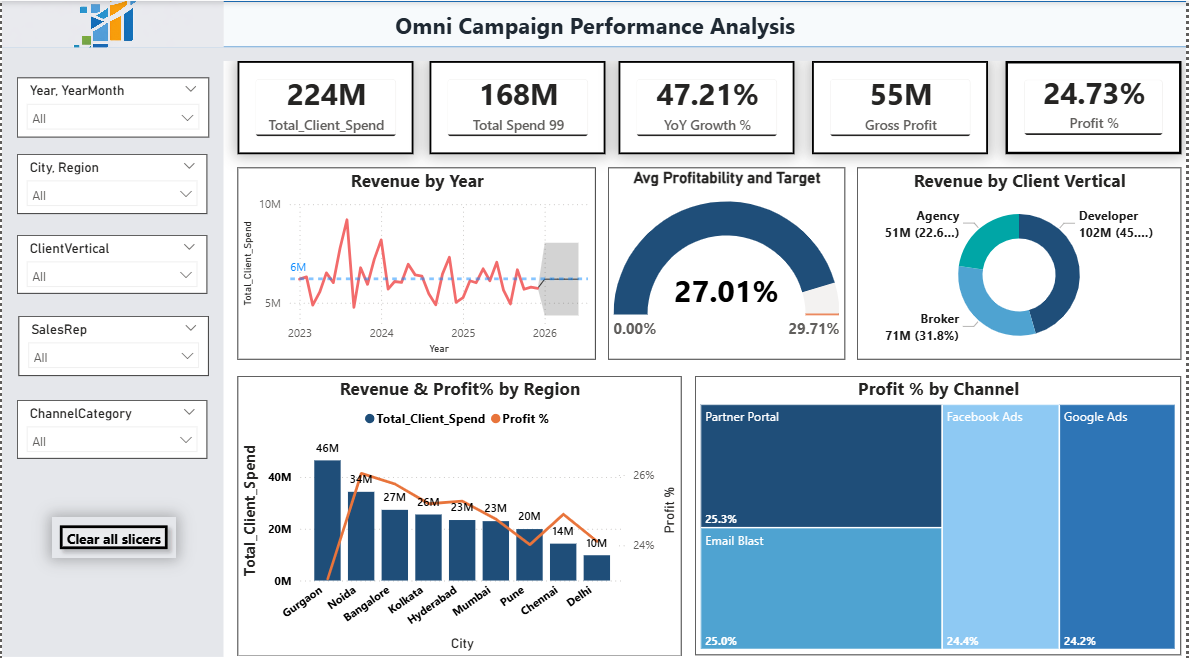

The page's visual inventory and layout, read from the dashboard file:
{"tool":"powerbi","page":{"name":"Sales Performance","canvas":[1280,720],"ordinal":0},"visuals":[{"type":"cardVisual","fields":{"Data":["Dim_Channel.Total_Client_Spend"]},"box":[253.7,64.1,190,100.6],"z":0},{"type":"cardVisual","fields":{"Data":["DimDate.Total Spend 99"]},"box":[460.7,64.1,190,100.6],"z":1000},{"type":"cardVisual","fields":{"Data":["DimDate.YoY Growth %"]},"box":[666.2,64.1,190,100.6],"z":2000},{"type":"cardVisual","fields":{"Data":["DimDate.Gross Profit"]},"box":[874.7,64.1,190,100.6],"z":3000},{"type":"cardVisual","fields":{"Data":["DimDate.Profit %"]},"box":[1083.3,64.8,190,100.4],"z":4000},{"type":"lineChart","title":"Revenue by Year","fields":{"Category":["DimDate.Date.Variation.Date Hierarchy.Year","DimDate.Date.Variation.Date Hierarchy.Quarter","DimDate.Date.Variation.Date Hierarchy.Month"],"Y":["Dim_Channel.Total_Client_Spend"]},"box":[254.2,179.7,387,207.3],"z":5000},{"type":"shape","title":"Om","box":[0,0,1280.8,50.2],"z":6000},{"type":"shape","box":[0,64.1,239.1,644.4],"z":7000},{"type":"slicer","fields":{"Values":["DimDate.Year","DimDate.YearMonth"]},"box":[16.2,82.6,207.3,64.8],"z":8000},{"type":"slicer","fields":{"Values":["Dim_Client.City","Dim_Client.Region"]},"box":[16.2,165.2,205.6,64.8],"z":9000},{"type":"slicer","fields":{"Values":["Dim_Client.ClientVertical"]},"box":[16.2,252.6,205.6,63.1],"z":10000},{"type":"slicer","fields":{"Values":["Dim_Client.SalesRep"]},"box":[17.8,340,205.6,64.8],"z":11000},{"type":"slicer","fields":{"Values":["Dim_Channel.ChannelCategory"]},"box":[16.2,430.7,205.6,63.1],"z":12000},{"type":"actionButton","box":[53.4,557,134.4,43.7],"z":13000},{"type":"donutChart","title":"Revenue by Client Vertical","fields":{"Y":["Dim_Channel.Total_Client_Spend"],"Category":["Dim_Client.ClientVertical"]},"box":[923,179.7,349.8,207.3],"z":14000},{"type":"shape","box":[0,50.2,1280.8,14.6],"z":15000},{"type":"treemap","title":"Profit % by Channel","fields":{"Group":["Dim_Channel.ChannelName"],"Values":["DimDate.Profit %"]},"box":[748.1,404.8,524.6,301.2],"z":16000},{"type":"image","box":[0,0,239.6,50.2],"z":17000},{"type":"lineStackedColumnComboChart","title":"Revenue & Profit% by Region","fields":{"Y":["Dim_Channel.Total_Client_Spend"],"Y2":["DimDate.Profit %"],"Category":["Dim_Client.City"]},"box":[254.2,404.8,479.3,302.8],"z":18000},{"type":"gauge","fields":{"Y":["DimDate.Avg Profitability"],"TargetValue":["DimDate.Target"]},"box":[654.2,179.7,255.8,207.3],"z":19000}]}

Visuals, with their boxes in screenshot pixels (x1, y1, x2, y2), scaled from the page's 1280x720 canvas onto the 1189x658 screenshot:
cardVisual - Dim_Channel.Total_Client_Spend: l=236, t=59, r=412, b=151
cardVisual - DimDate.Total Spend 99: l=428, t=59, r=604, b=151
cardVisual - DimDate.YoY Growth %: l=619, t=59, r=795, b=151
cardVisual - DimDate.Gross Profit: l=813, t=59, r=989, b=151
cardVisual - DimDate.Profit %: l=1006, t=59, r=1183, b=151
"Revenue by Year" lineChart: l=236, t=164, r=596, b=354
"Om" shape: l=0, t=0, r=1188, b=46
shape: l=0, t=59, r=222, b=647
slicer - DimDate.Year x DimDate.YearMonth: l=15, t=75, r=208, b=135
slicer - Dim_Client.City x Dim_Client.Region: l=15, t=151, r=206, b=210
slicer - Dim_Client.ClientVertical: l=15, t=231, r=206, b=289
slicer - Dim_Client.SalesRep: l=17, t=311, r=208, b=370
slicer - Dim_Channel.ChannelCategory: l=15, t=394, r=206, b=451
actionButton: l=50, t=509, r=174, b=549
"Revenue by Client Vertical" donutChart: l=857, t=164, r=1182, b=354
shape: l=0, t=46, r=1188, b=59
"Profit % by Channel" treemap: l=695, t=370, r=1182, b=645
image: l=0, t=0, r=223, b=46
"Revenue & Profit% by Region" lineStackedColumnComboChart: l=236, t=370, r=681, b=647
gauge - DimDate.Avg Profitability x DimDate.Target: l=608, t=164, r=845, b=354
